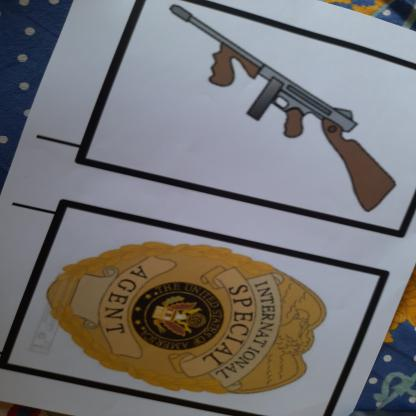Bootlegger: (148, 1, 414, 218)
G-man: (28, 235, 358, 402)
